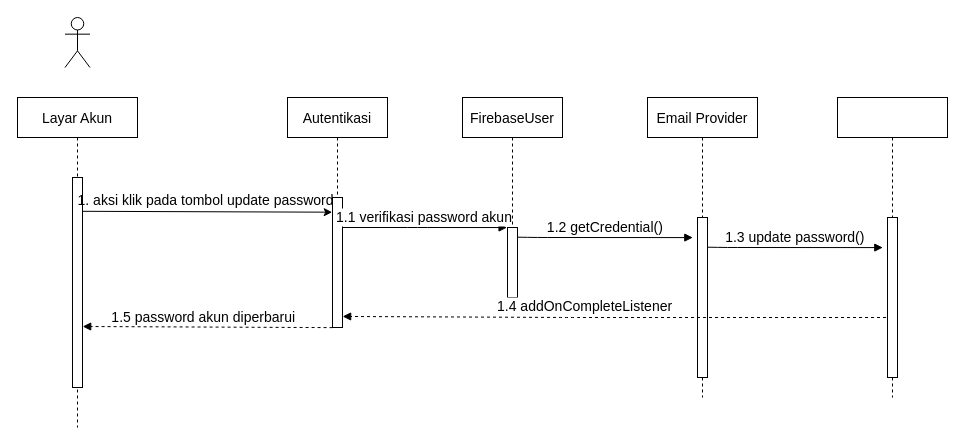
Some shapes in this 965 by 445 pixel diagram are drawn without their labels. The shapes that lost their labels are listed below. From the top down, each one's centre as x and y in pixels, then its label:
At (x=77, y=42): ":User".
At (x=892, y=247): "reauthenticate".
